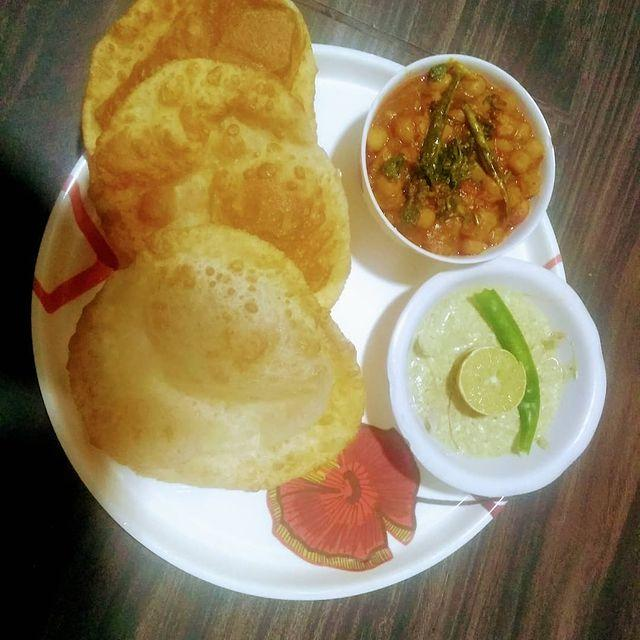Chole: (382, 82, 524, 249)
